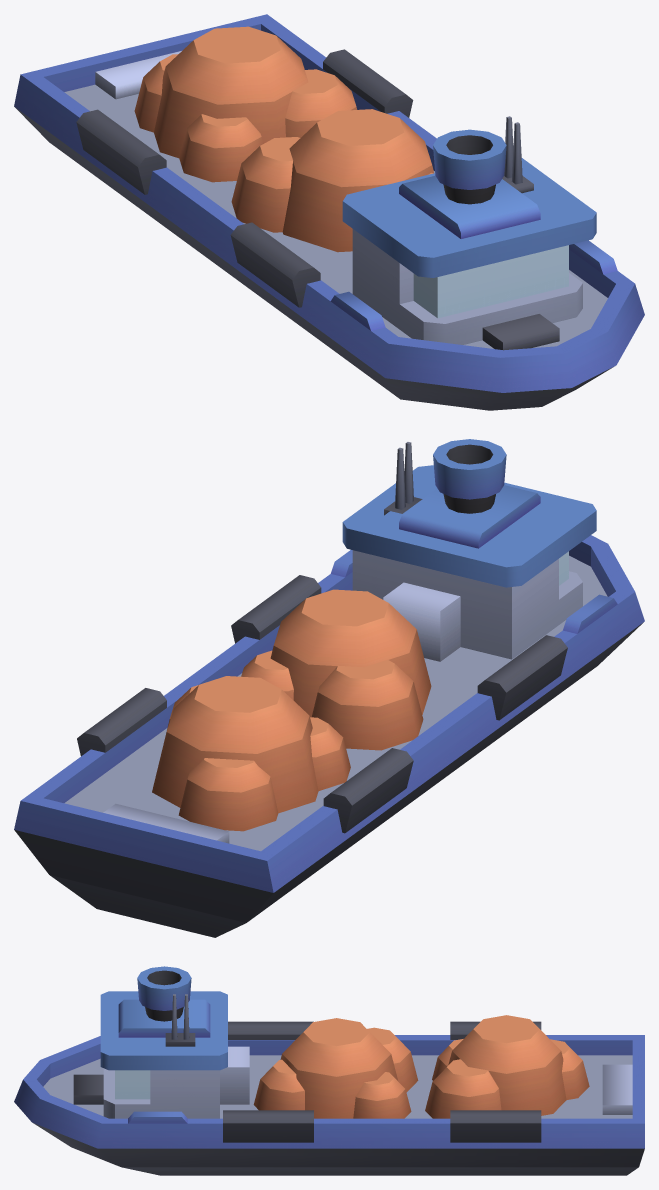
Rendered from ship-cargo-b-transformed-transformed.glb.
3 views of the same model, one above another, from view 1: azimuth 30°, elevation 25°; view 2: azimuth 150°, elevation 25°; view 3: azimuth 270°, elevation 25° (orthographic). The views are drawn at different scales.
Visible parts, largest first — view 1: ship-cargo-b, cargo-b, cargo-a; view 2: ship-cargo-b, cargo-b, cargo-a; view 3: ship-cargo-b, cargo-a, cargo-b.
Part boxes in pixels (bbox=[...]): ship-cargo-b: bbox=[14, 14, 644, 410]; cargo-b: bbox=[134, 26, 357, 182]; cargo-a: bbox=[231, 109, 433, 252]; ship-cargo-b: bbox=[14, 439, 644, 937]; cargo-b: bbox=[152, 676, 350, 831]; cargo-a: bbox=[241, 589, 431, 750]; ship-cargo-b: bbox=[14, 966, 644, 1175]; cargo-a: bbox=[253, 1018, 418, 1118]; cargo-b: bbox=[425, 1015, 589, 1118].
Size of the model in its own units: 3.92 by 3.3 by 10.55.
1 material, 1 textured.
